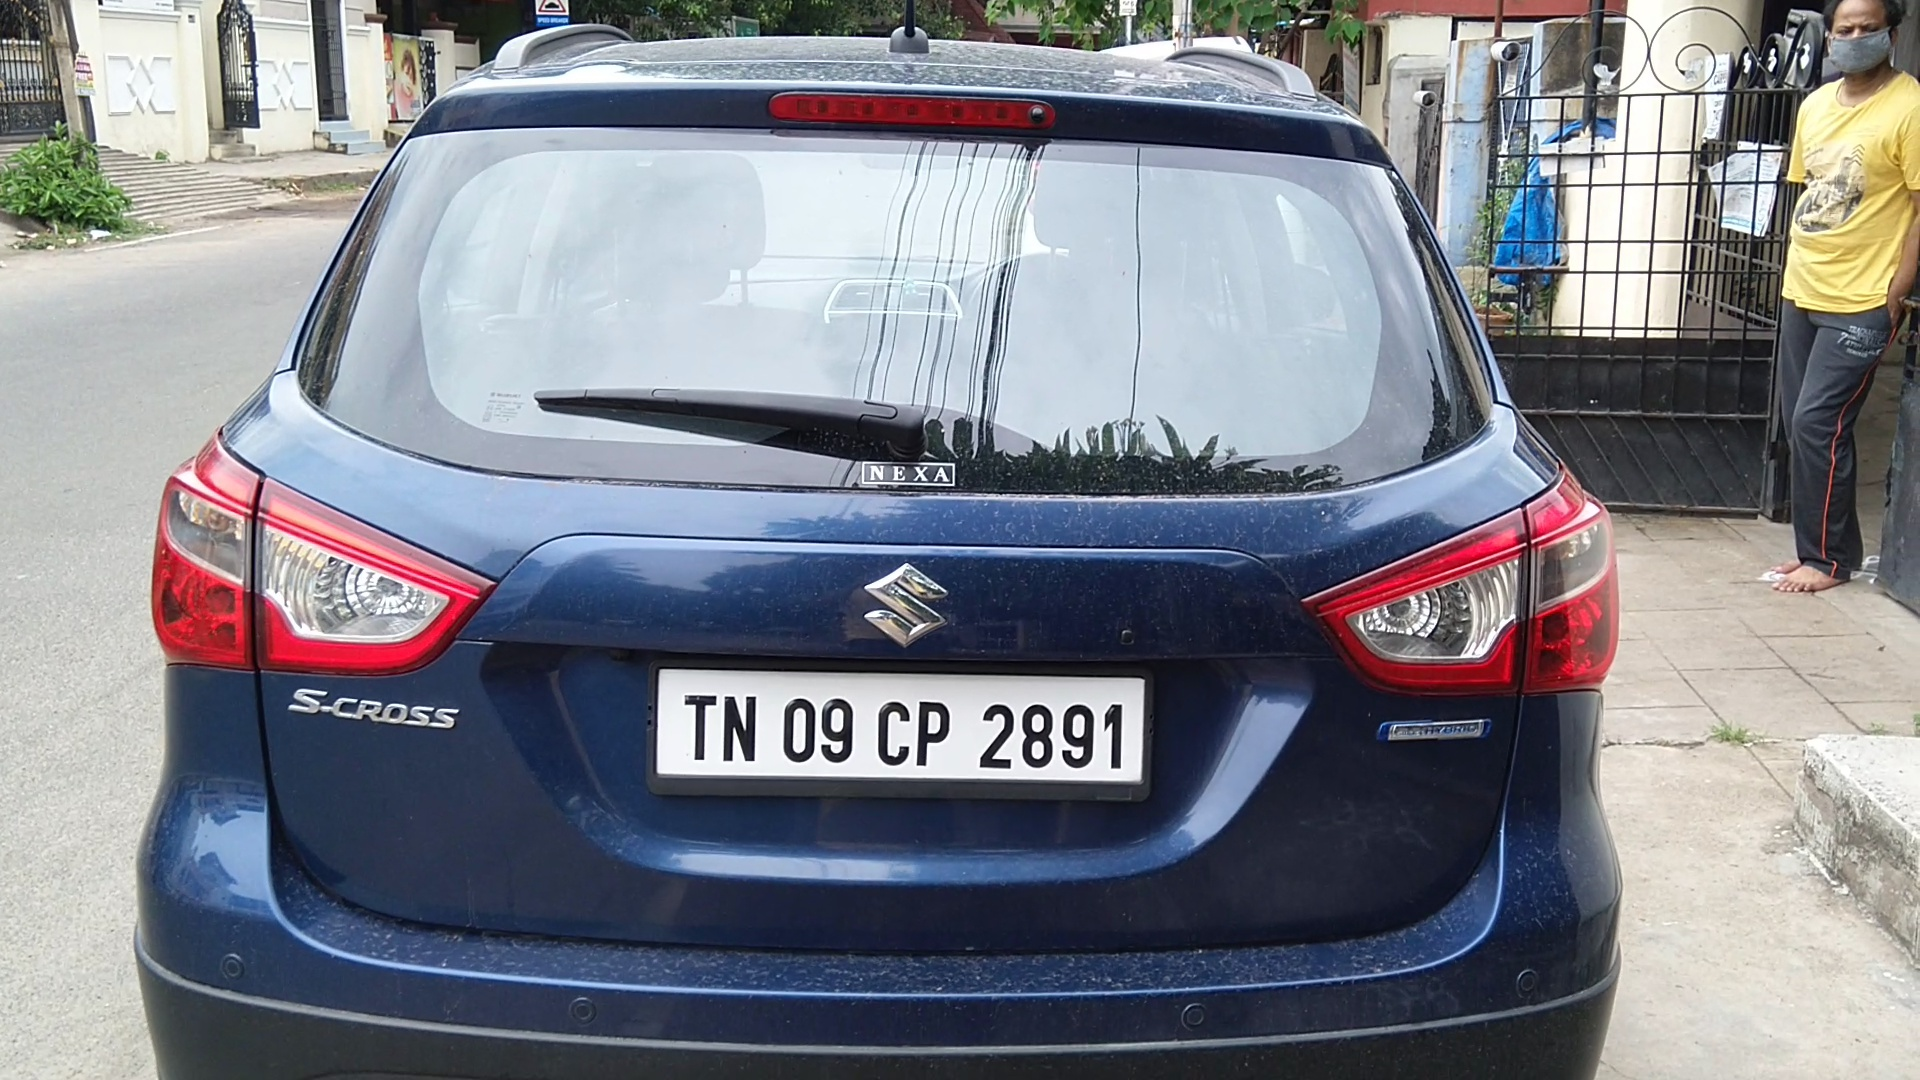rear_camera: (1023, 96, 1055, 135)
shvs: (1370, 708, 1503, 756)
